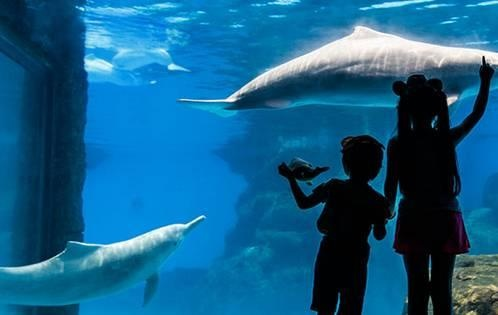fish: (182, 21, 498, 119), (2, 210, 207, 304)
person: (379, 55, 498, 315), (269, 130, 394, 315)
